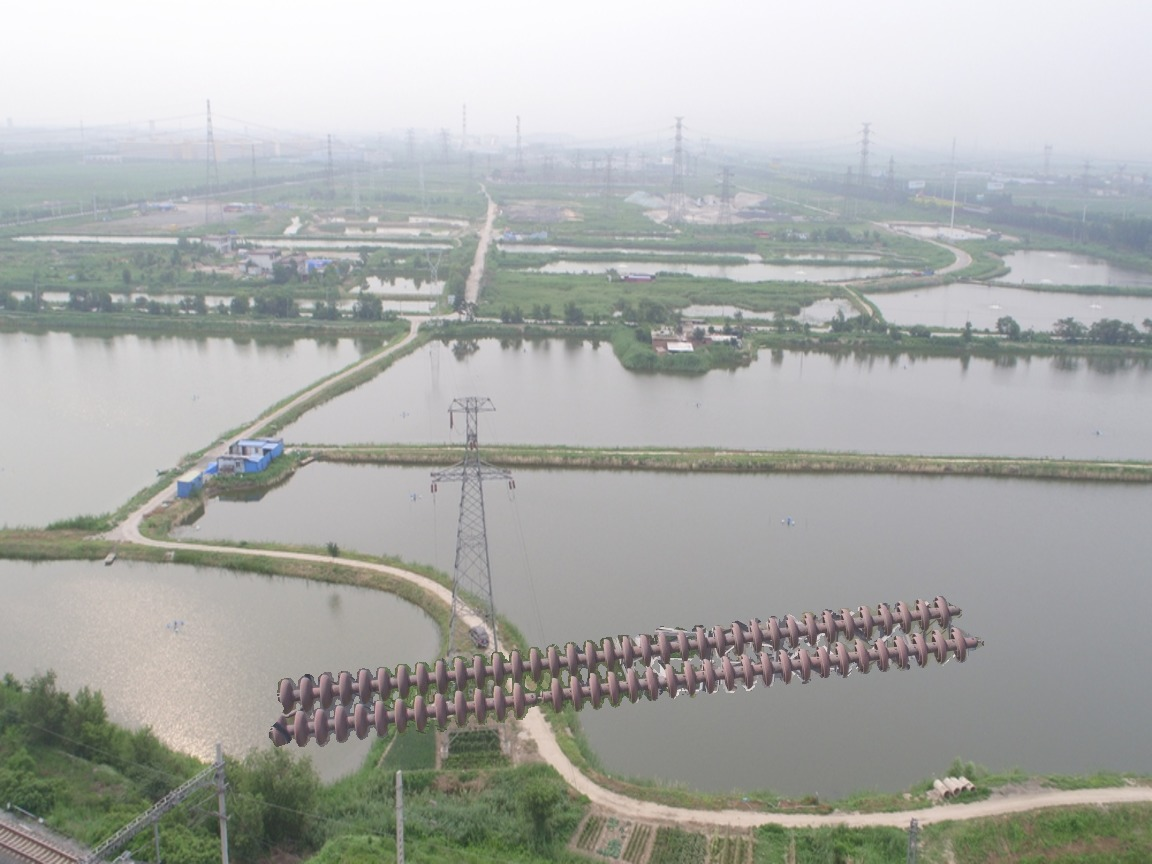defect: (504, 675, 568, 722)
